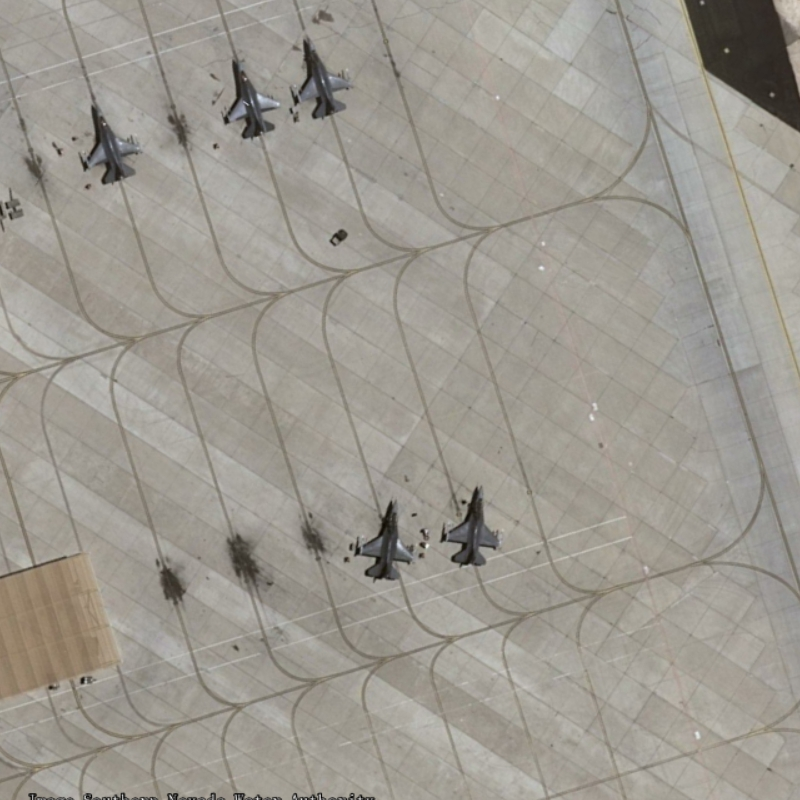A5: (74, 94, 150, 188), (351, 489, 422, 585), (437, 480, 510, 571), (288, 33, 359, 121), (217, 52, 285, 142)
